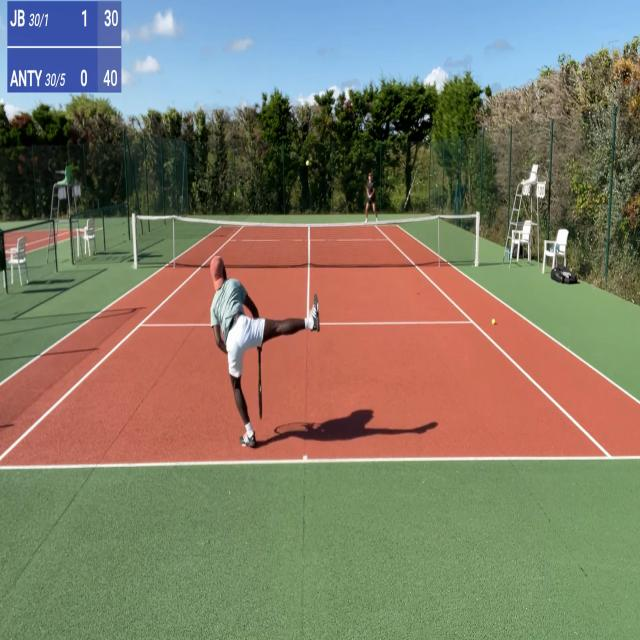ball: (306, 160, 310, 168), (492, 318, 495, 325)
